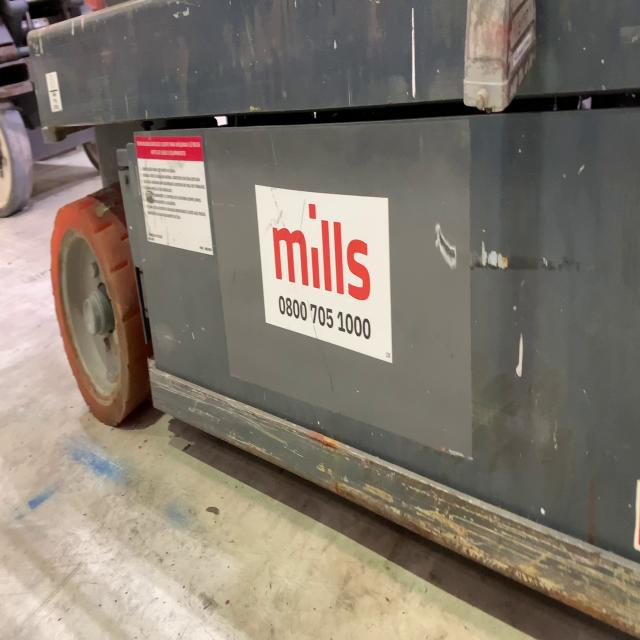Adesivos: (253, 182, 394, 365)
